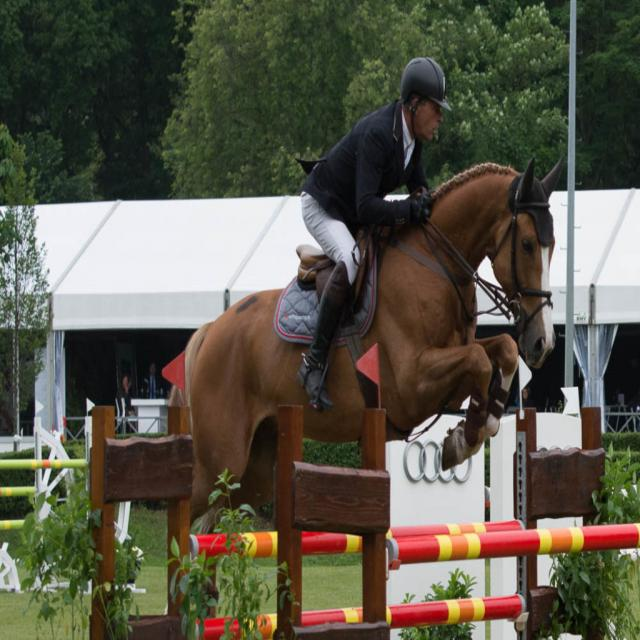Horse: (167, 152, 566, 536)
